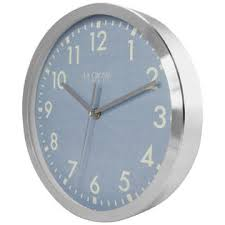alarm_clock: (20, 0, 204, 223), (20, 7, 204, 223)
